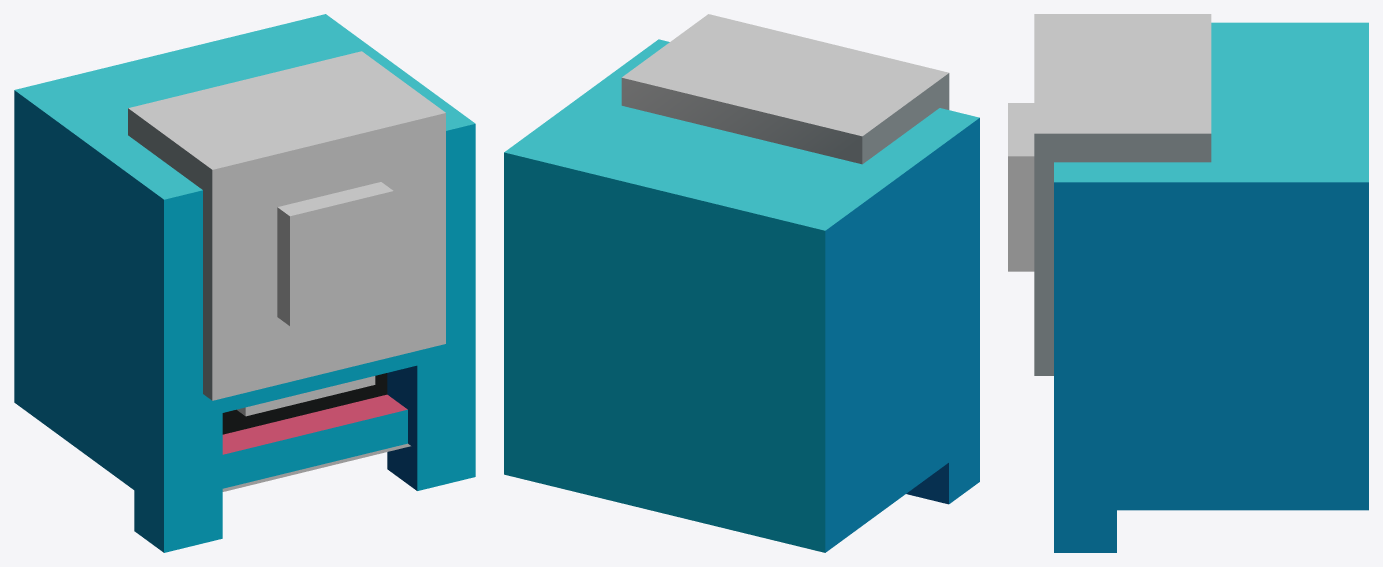
The model's file is EN_SneakyBit_Cyan.fbx.
The picture shows the model from 3 angles, left to right: view 1: azimuth 30°, elevation 25°; view 2: azimuth 150°, elevation 25°; view 3: azimuth 270°, elevation 25°; orthographic projection. The views are drawn at different scales.
Visible parts, largest first — view 1: Body, Eye, Pupil, Mouth, Shadow; view 2: Body, Eye; view 3: Body, Eye, Pupil.
Part boxes in pixels (bbox=[...]): Body: bbox=[14, 14, 475, 552]; Eye: bbox=[128, 51, 445, 400]; Pupil: bbox=[277, 182, 393, 325]; Mouth: bbox=[222, 394, 407, 488]; Shadow: bbox=[222, 443, 410, 491]; Body: bbox=[504, 39, 979, 552]; Eye: bbox=[621, 14, 949, 164]; Body: bbox=[1054, 22, 1368, 552]; Eye: bbox=[1034, 14, 1211, 375]; Pupil: bbox=[1008, 103, 1034, 271].
Size of the model in its own units: 48 by 56 by 45.84.
